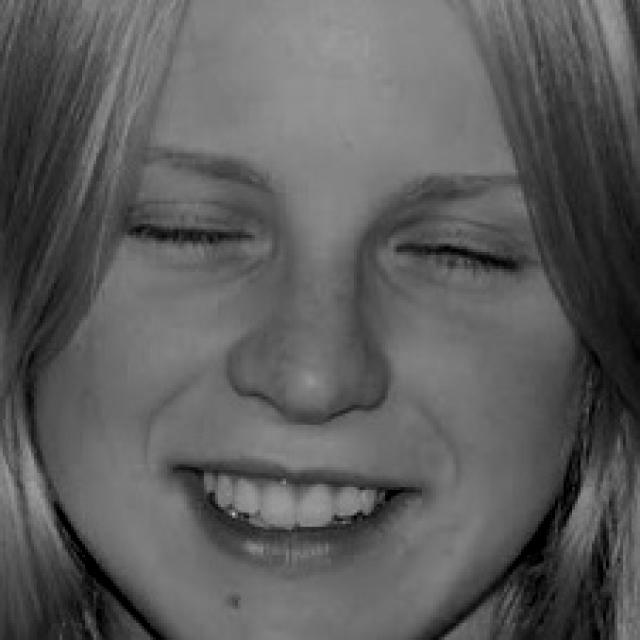real: (60, 68, 594, 608), (119, 168, 542, 314)
